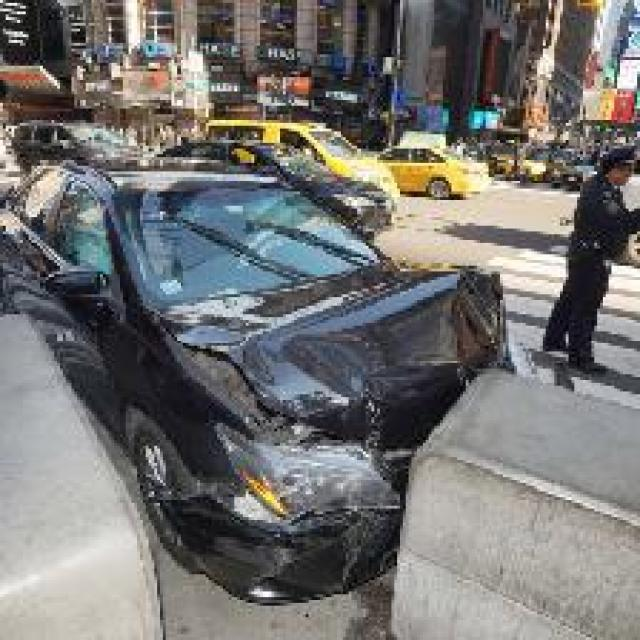damaged: (175, 266, 534, 612)
